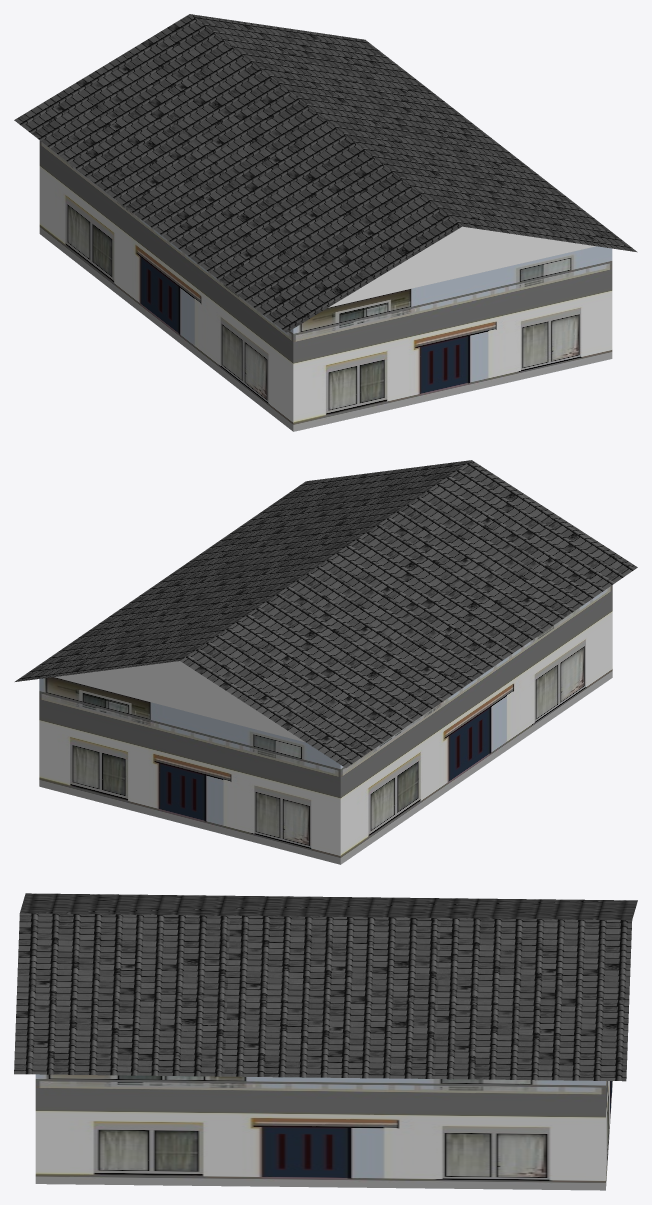
The picture shows the model from 3 angles, top to bottom: view 1: azimuth 30°, elevation 25°; view 2: azimuth 150°, elevation 25°; view 3: azimuth 270°, elevation 25°; orthographic projection. The views are drawn at different scales.
Visible parts, largest first — view 1: CityEngineMaterial_8_m, CityEngineMaterial_7_m, CityEngineMaterial_3_m; view 2: CityEngineMaterial_8_m, CityEngineMaterial_7_m, CityEngineMaterial_3_m; view 3: CityEngineMaterial_8_m, CityEngineMaterial_7_m.
Part boxes in pixels (<box>): CityEngineMaterial_8_m: <box>14,14,637,332</box>; CityEngineMaterial_7_m: <box>39,140,612,431</box>; CityEngineMaterial_3_m: <box>328,226,595,307</box>; CityEngineMaterial_8_m: <box>15,460,637,767</box>; CityEngineMaterial_7_m: <box>39,585,612,864</box>; CityEngineMaterial_3_m: <box>54,661,305,742</box>; CityEngineMaterial_8_m: <box>14,893,637,1081</box>; CityEngineMaterial_7_m: <box>35,1074,612,1190</box>.
Size of the model in its own units: 21.1 by 9.88 by 29.63.
